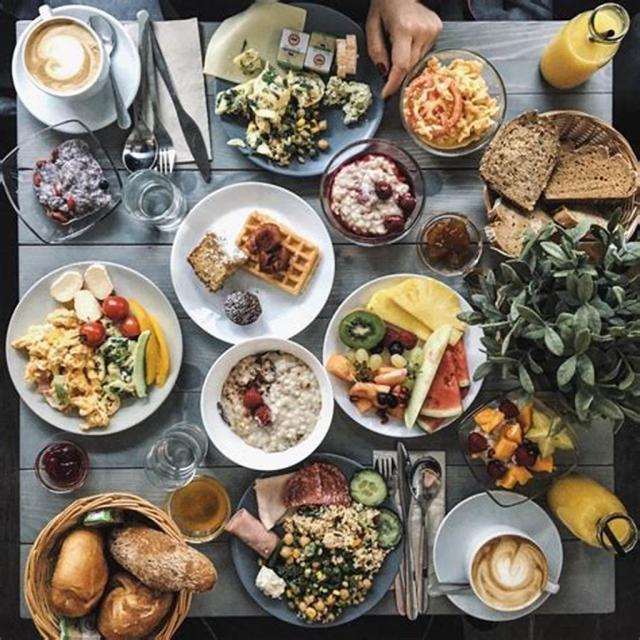nuoc ep trai cay: (554, 471, 640, 558)
trai cay: (333, 291, 466, 432)
